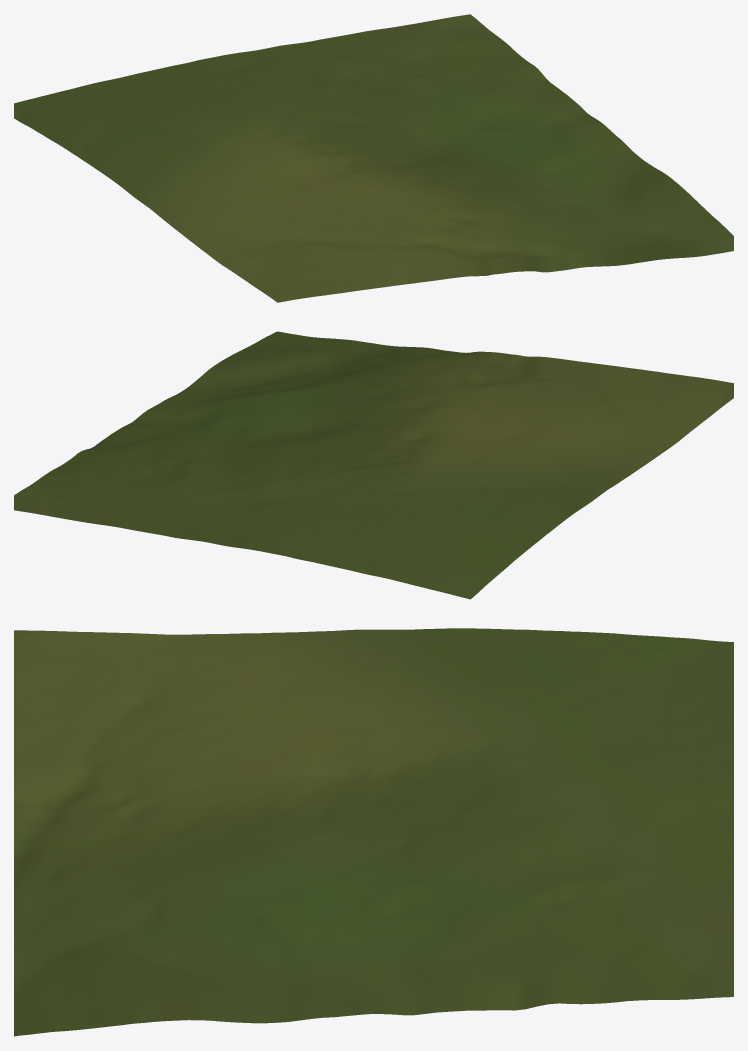
Rendered from terrain_6_-9.glb.
The picture shows the model from 3 angles, top to bottom: view 1: azimuth 30°, elevation 25°; view 2: azimuth 150°, elevation 25°; view 3: azimuth 270°, elevation 25°; orthographic projection. The views are drawn at different scales.
Visible parts, largest first — view 1: terrain_6_-9; view 2: terrain_6_-9; view 3: terrain_6_-9.
Part boxes in pixels (bbox=[...]): terrain_6_-9: bbox=[14, 14, 733, 302]; terrain_6_-9: bbox=[14, 331, 733, 599]; terrain_6_-9: bbox=[14, 628, 733, 1036].
Bounding box in the file's own units: 256 × 40.79 × 256.
